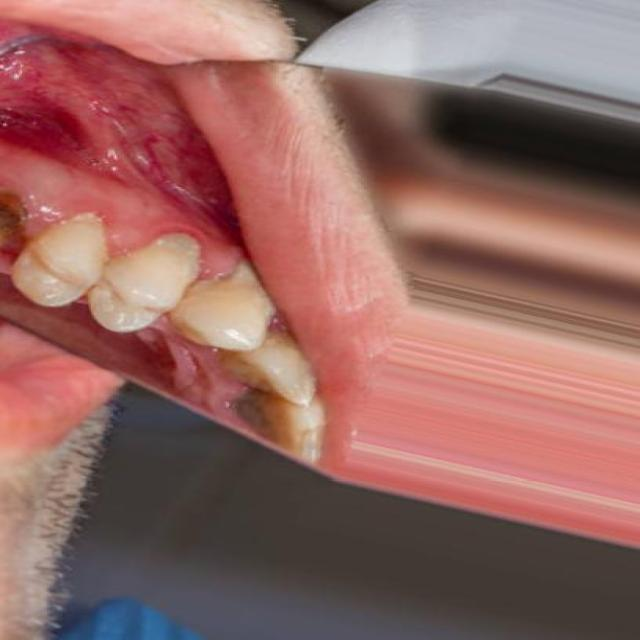caries: (226, 383, 294, 436)
